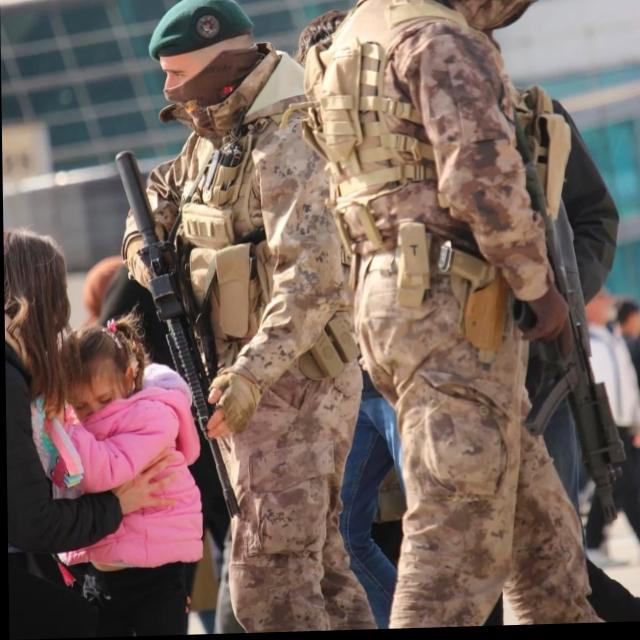poh_personel: (308, 0, 591, 633), (113, 0, 378, 637)
